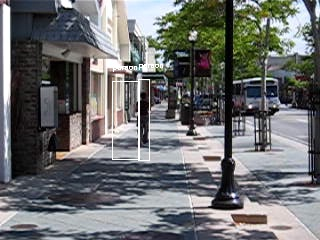person: (133, 89, 152, 146), (132, 89, 151, 146), (134, 89, 153, 146), (133, 88, 152, 145), (133, 90, 152, 147)
target_negative: (15, 52, 212, 178), (20, 200, 279, 238), (3, 83, 61, 220), (233, 93, 271, 224), (94, 137, 165, 203), (124, 156, 139, 225)
